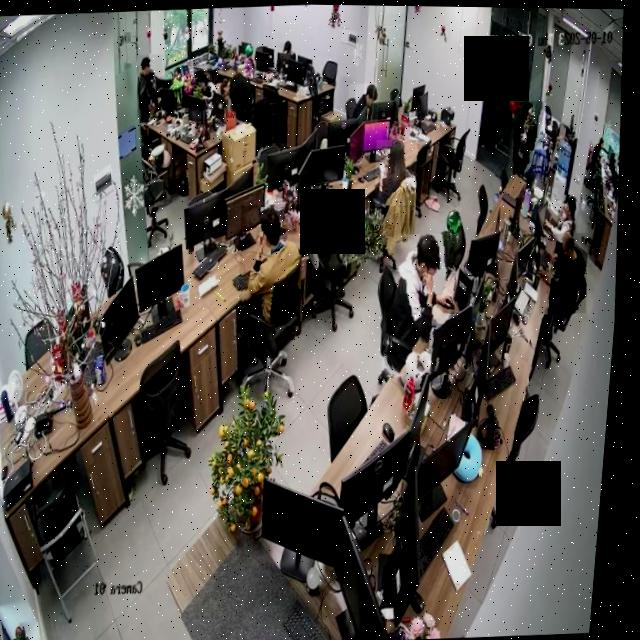person: (381, 230, 472, 377), (237, 202, 313, 328), (540, 231, 596, 313), (375, 137, 423, 206), (511, 99, 548, 173), (219, 69, 259, 127), (136, 53, 167, 118), (554, 192, 585, 243), (347, 81, 382, 124), (194, 67, 219, 111)
